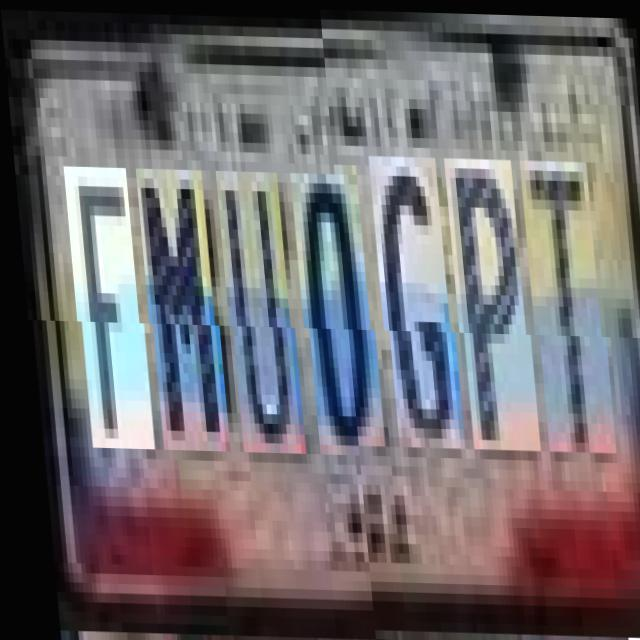F: (65, 166, 147, 448)
G: (371, 163, 458, 456)
M: (136, 168, 222, 450)
O: (292, 172, 378, 454)
P: (446, 165, 534, 458)
T: (522, 166, 609, 460)
U: (216, 170, 298, 452)
